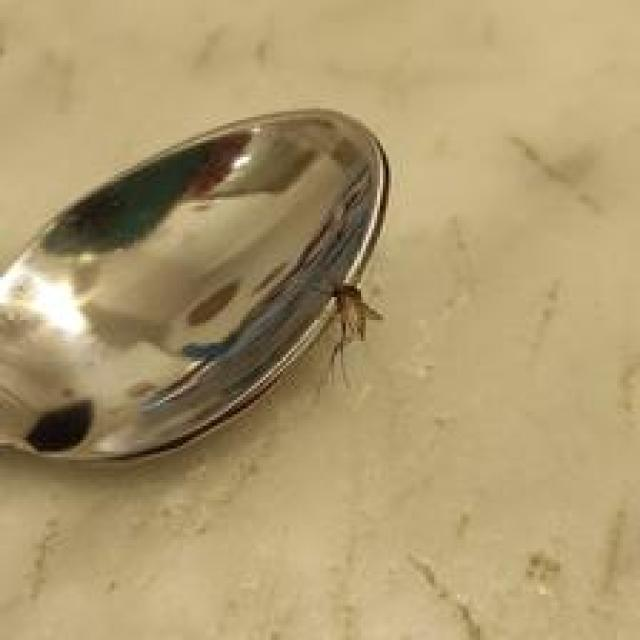Culex: (0, 105, 391, 471)
